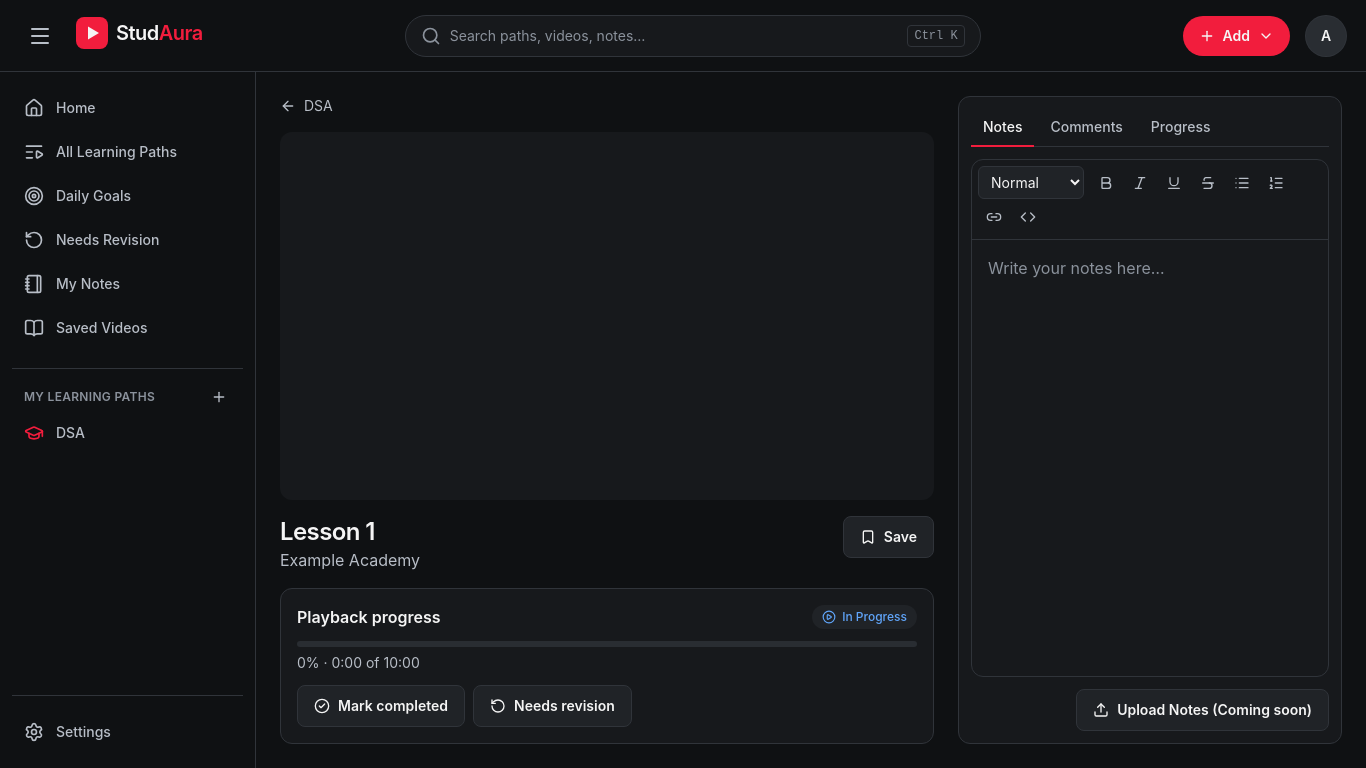
learning status controls › shows an error and leaves the status alone when the change fails
Expected: the heading "Lesson 1" is shown, x1=280 y1=517 x2=375 y2=546
Click the button "Mark completed" at [381, 706], box x1=297 y1=685 x2=465 y2=727
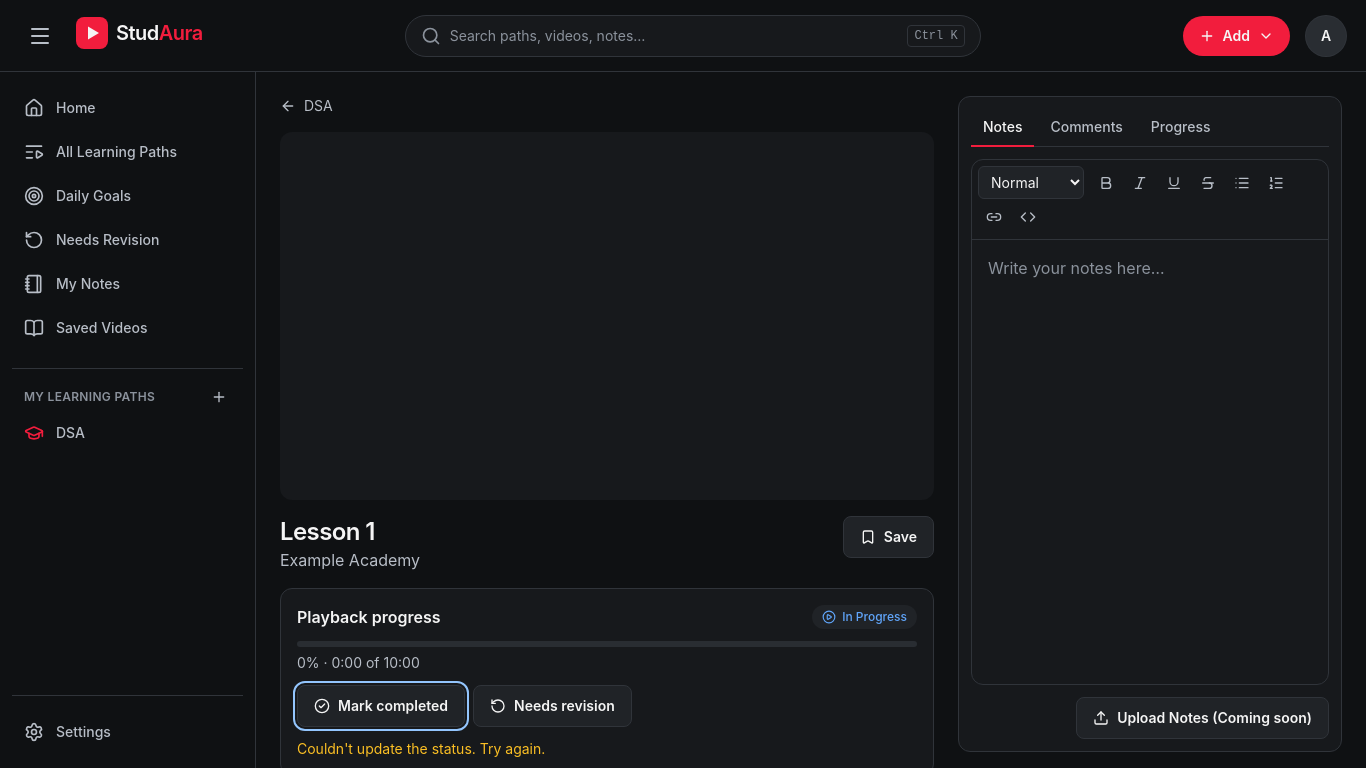
Expected: the text "Couldn't update the status. Try again." is shown, x1=297 y1=740 x2=545 y2=757
